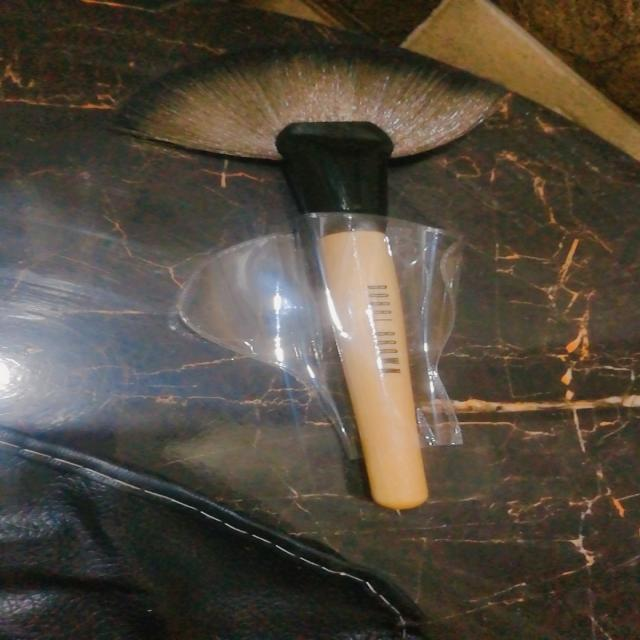brush: (95, 37, 526, 504)
